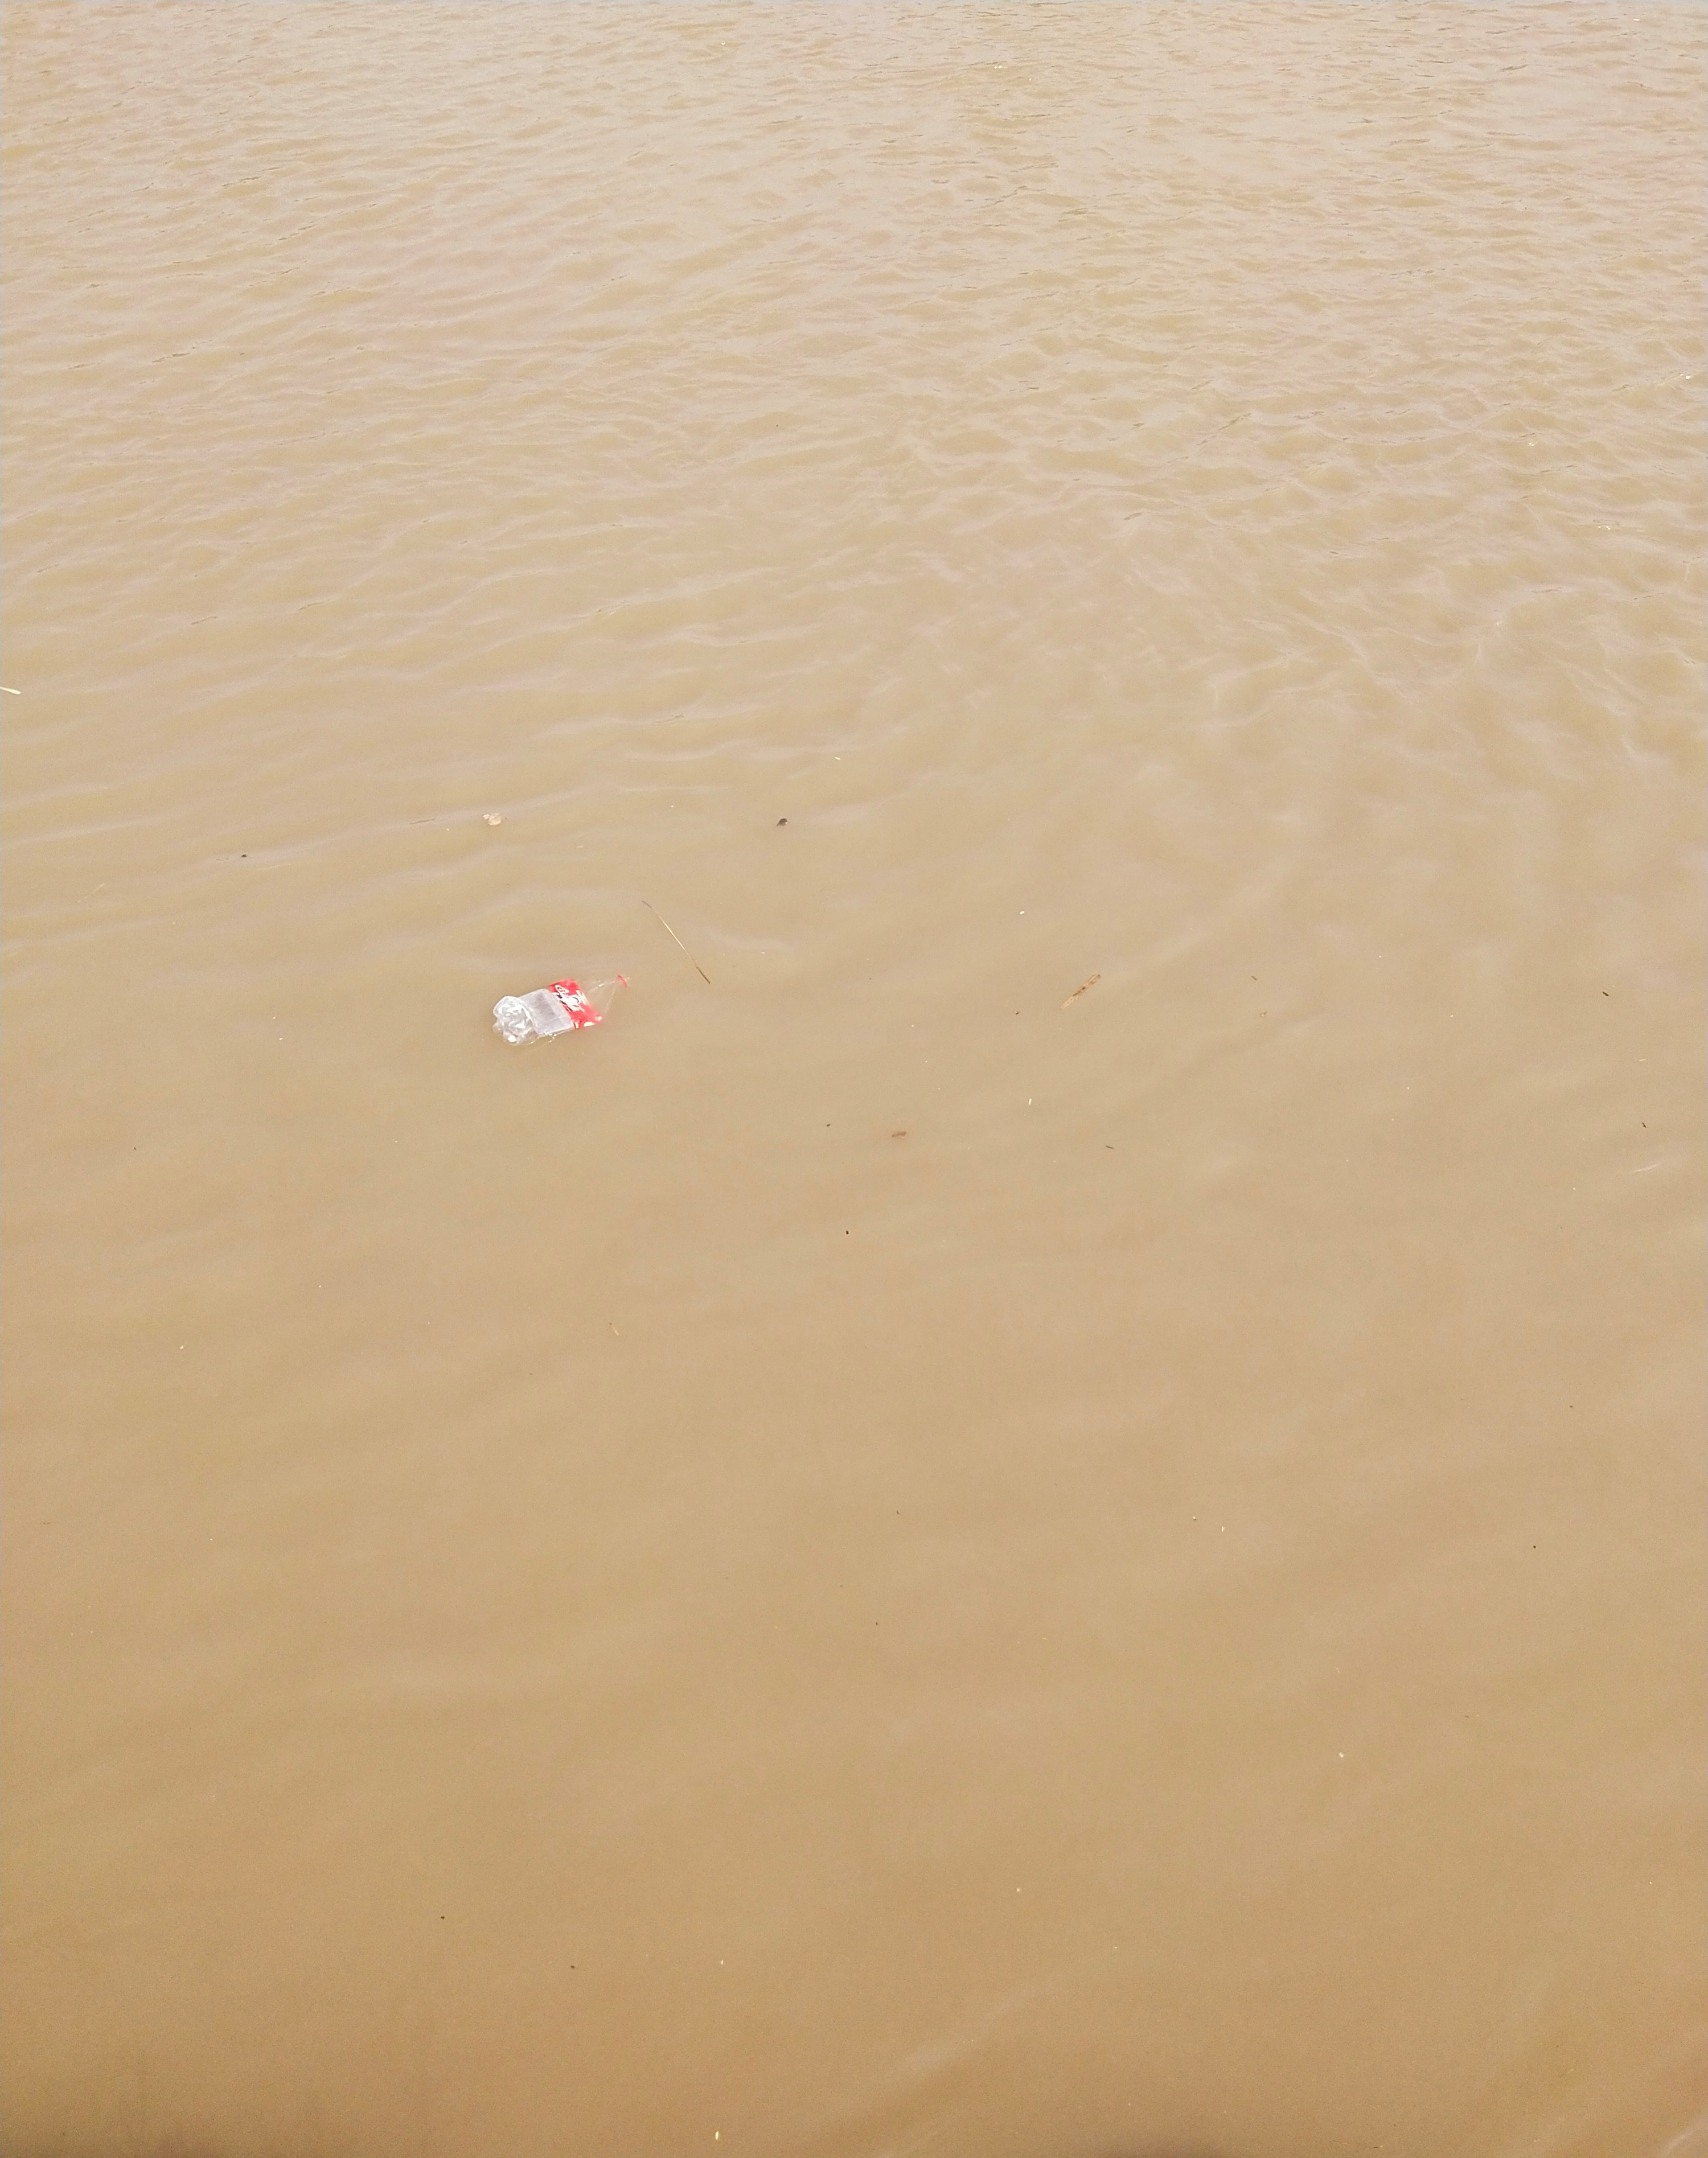Plastic Bottle: (494, 974, 631, 1046)
